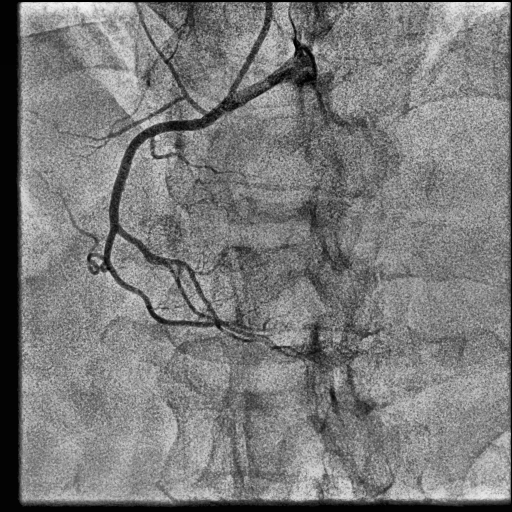rca: (103, 99, 234, 328)
